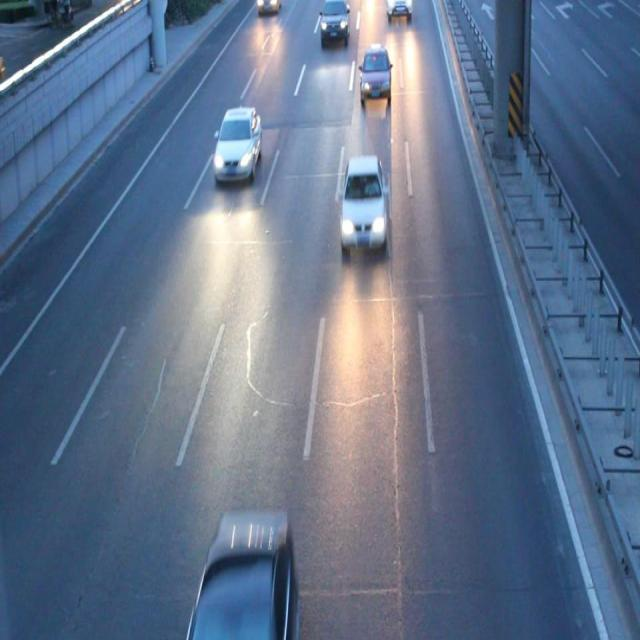car: (182, 511, 297, 640), (338, 157, 388, 255), (214, 105, 262, 182), (357, 44, 392, 102), (319, 1, 349, 43), (386, 1, 412, 19)
